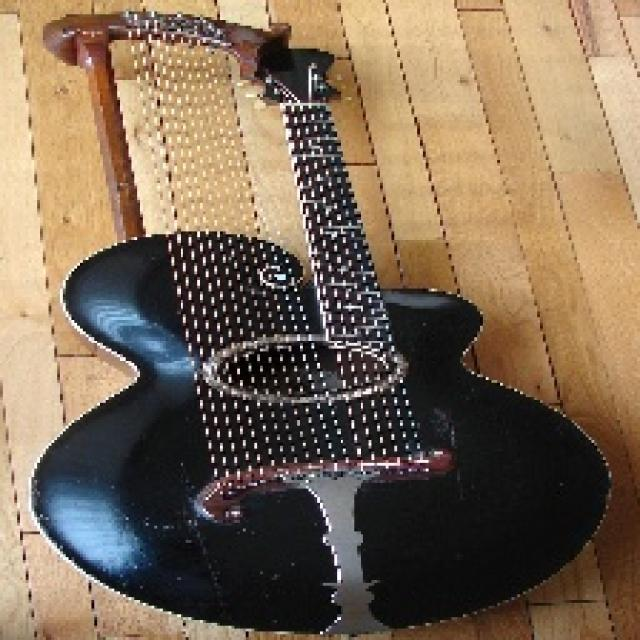guitar: (32, 18, 612, 630)
